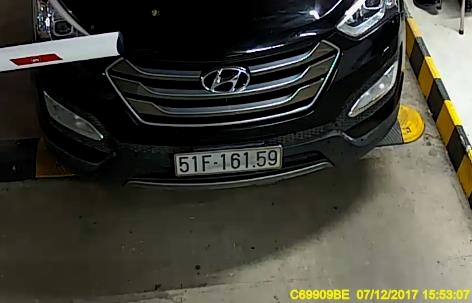plate: (173, 143, 283, 176)
